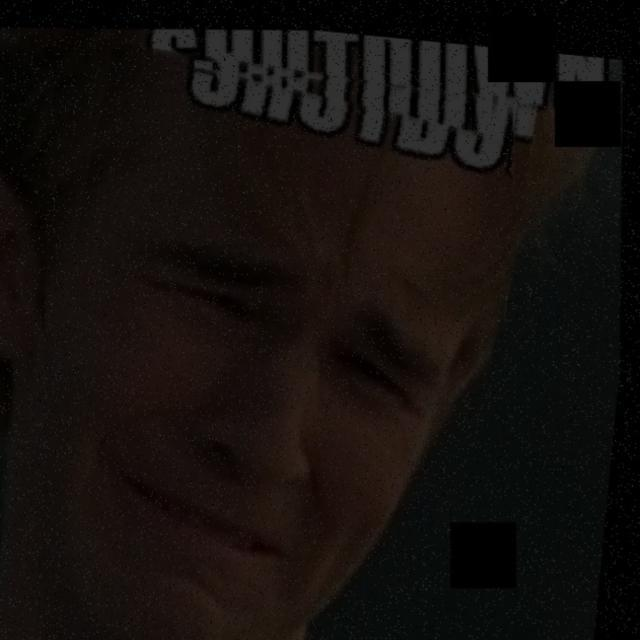Sad: (50, 56, 456, 640)
